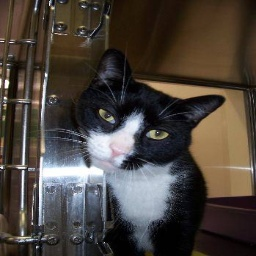cat: (72, 45, 225, 256)
